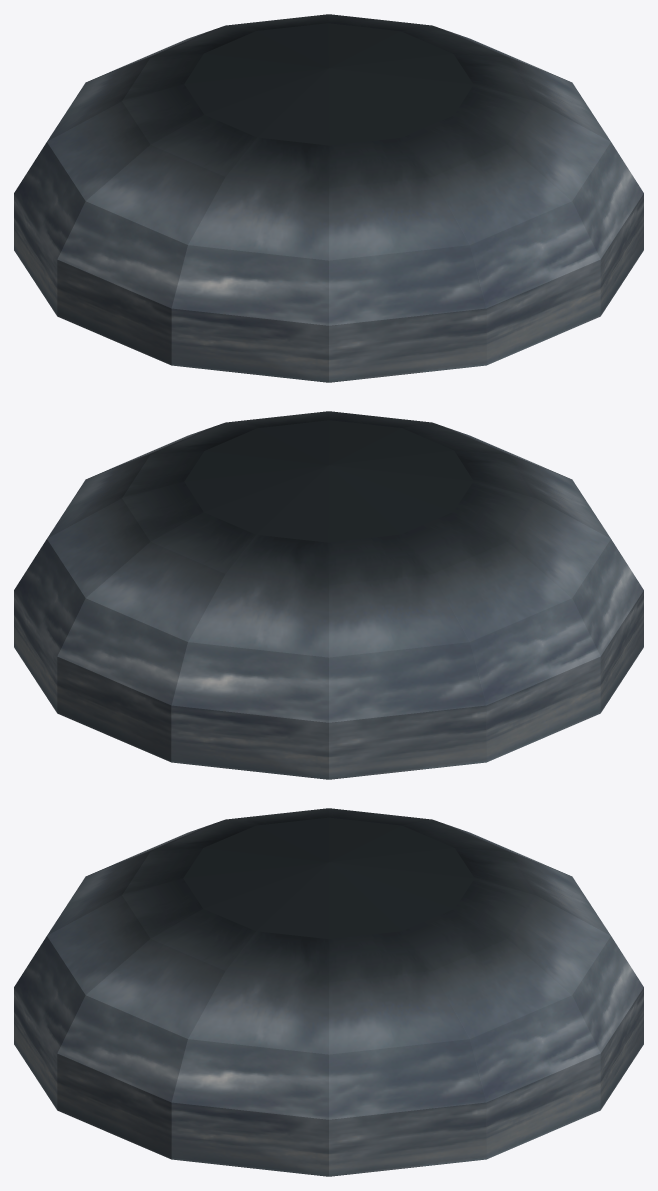
The picture shows the model from 3 angles, top to bottom: view 1: azimuth 30°, elevation 25°; view 2: azimuth 150°, elevation 25°; view 3: azimuth 270°, elevation 25°; orthographic projection.
Parts seen in each view (by area): view 1: mesh00; view 2: mesh00; view 3: mesh00.
Part boxes in pixels (x1,y1,x2,y2): mesh00: [14, 14, 643, 382]; mesh00: [14, 411, 643, 779]; mesh00: [14, 808, 643, 1176].
Size of the model in its own units: 113791 by 36399 by 114256.
2 materials, 2 textured.
